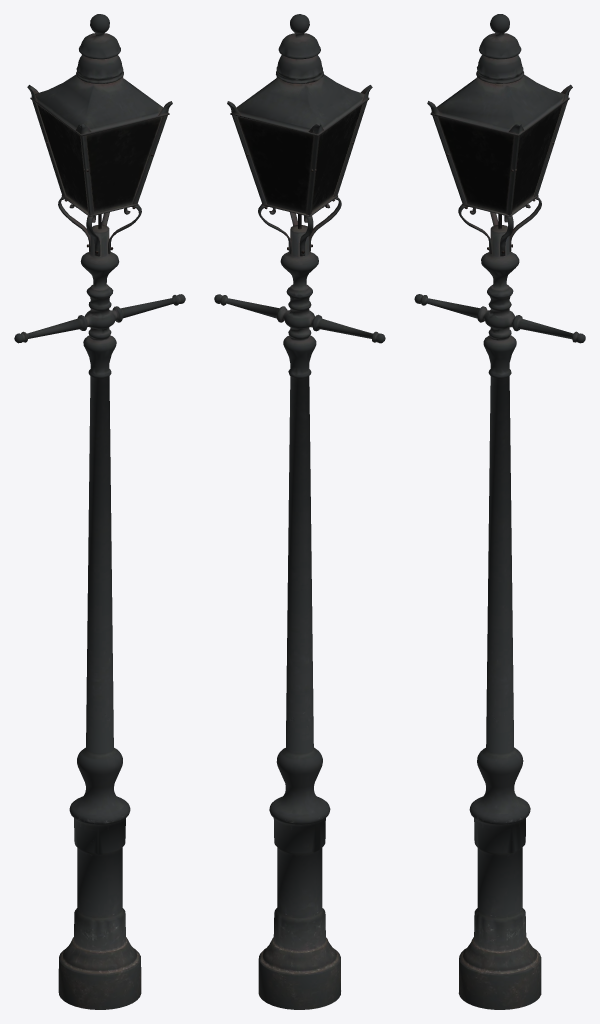
The model's file is lampadaire_fonte_lod0.glb.
3 views of the same model, side by side, from view 1: azimuth 30°, elevation 25°; view 2: azimuth 150°, elevation 25°; view 3: azimuth 330°, elevation 25° (orthographic).
Visible parts, largest first — view 1: street_lamp_01; view 2: street_lamp_01; view 3: street_lamp_01.
Boxes of the visible parts, x1,y1,x2,y2 form: street_lamp_01: (14, 14, 185, 1009); street_lamp_01: (214, 14, 385, 1009); street_lamp_01: (414, 14, 585, 1009).
Size of the model in its own units: 0.704 by 3.87 by 0.3859.
Materials: 2 (2 with a texture image).
